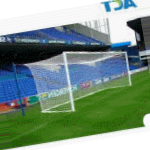goals: (27, 48, 133, 115)
